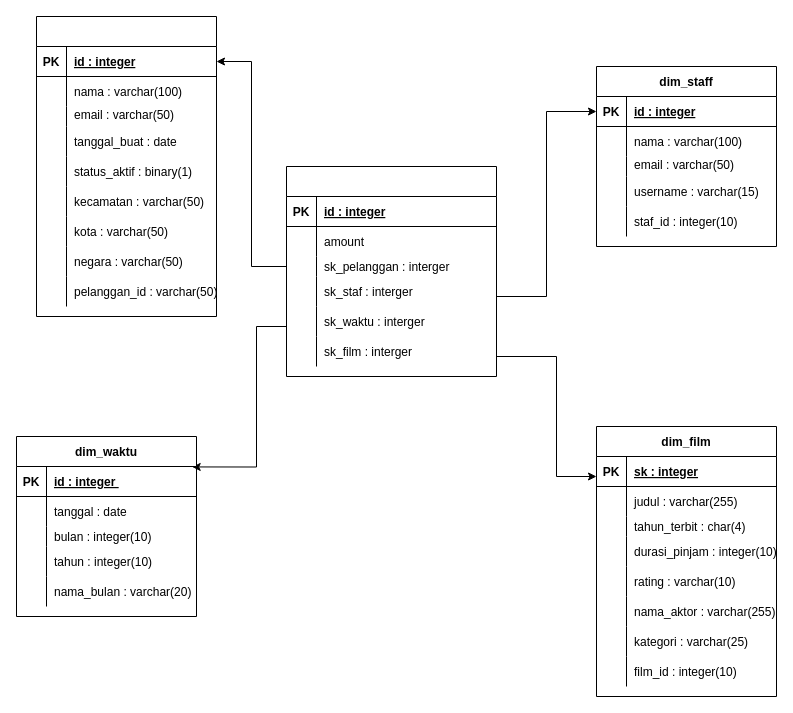
Image size: 793x713. Some labels were removed from this diagram. The shapes that lost their labels are listed below. From the top down, each one's box as (x1, y1, x2, y2) in pixels, then its label:
(36, 16, 216, 316): dim_pelanggan
(286, 166, 496, 376): Fakta Order
